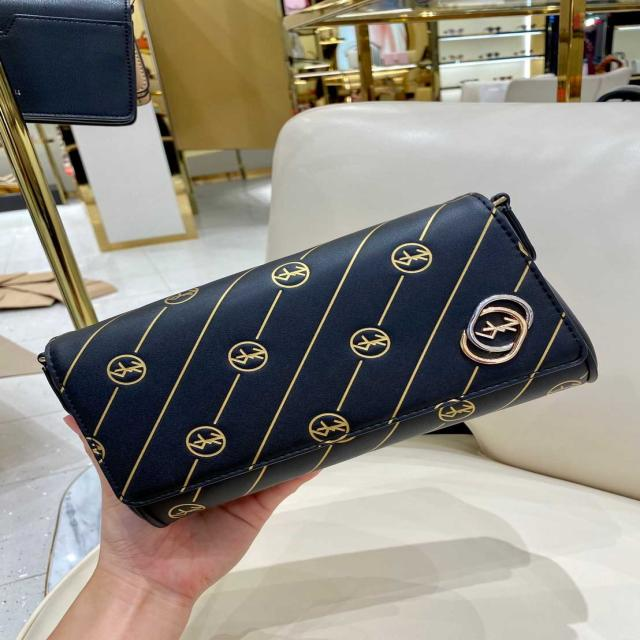Handbag: (40, 199, 601, 522)
